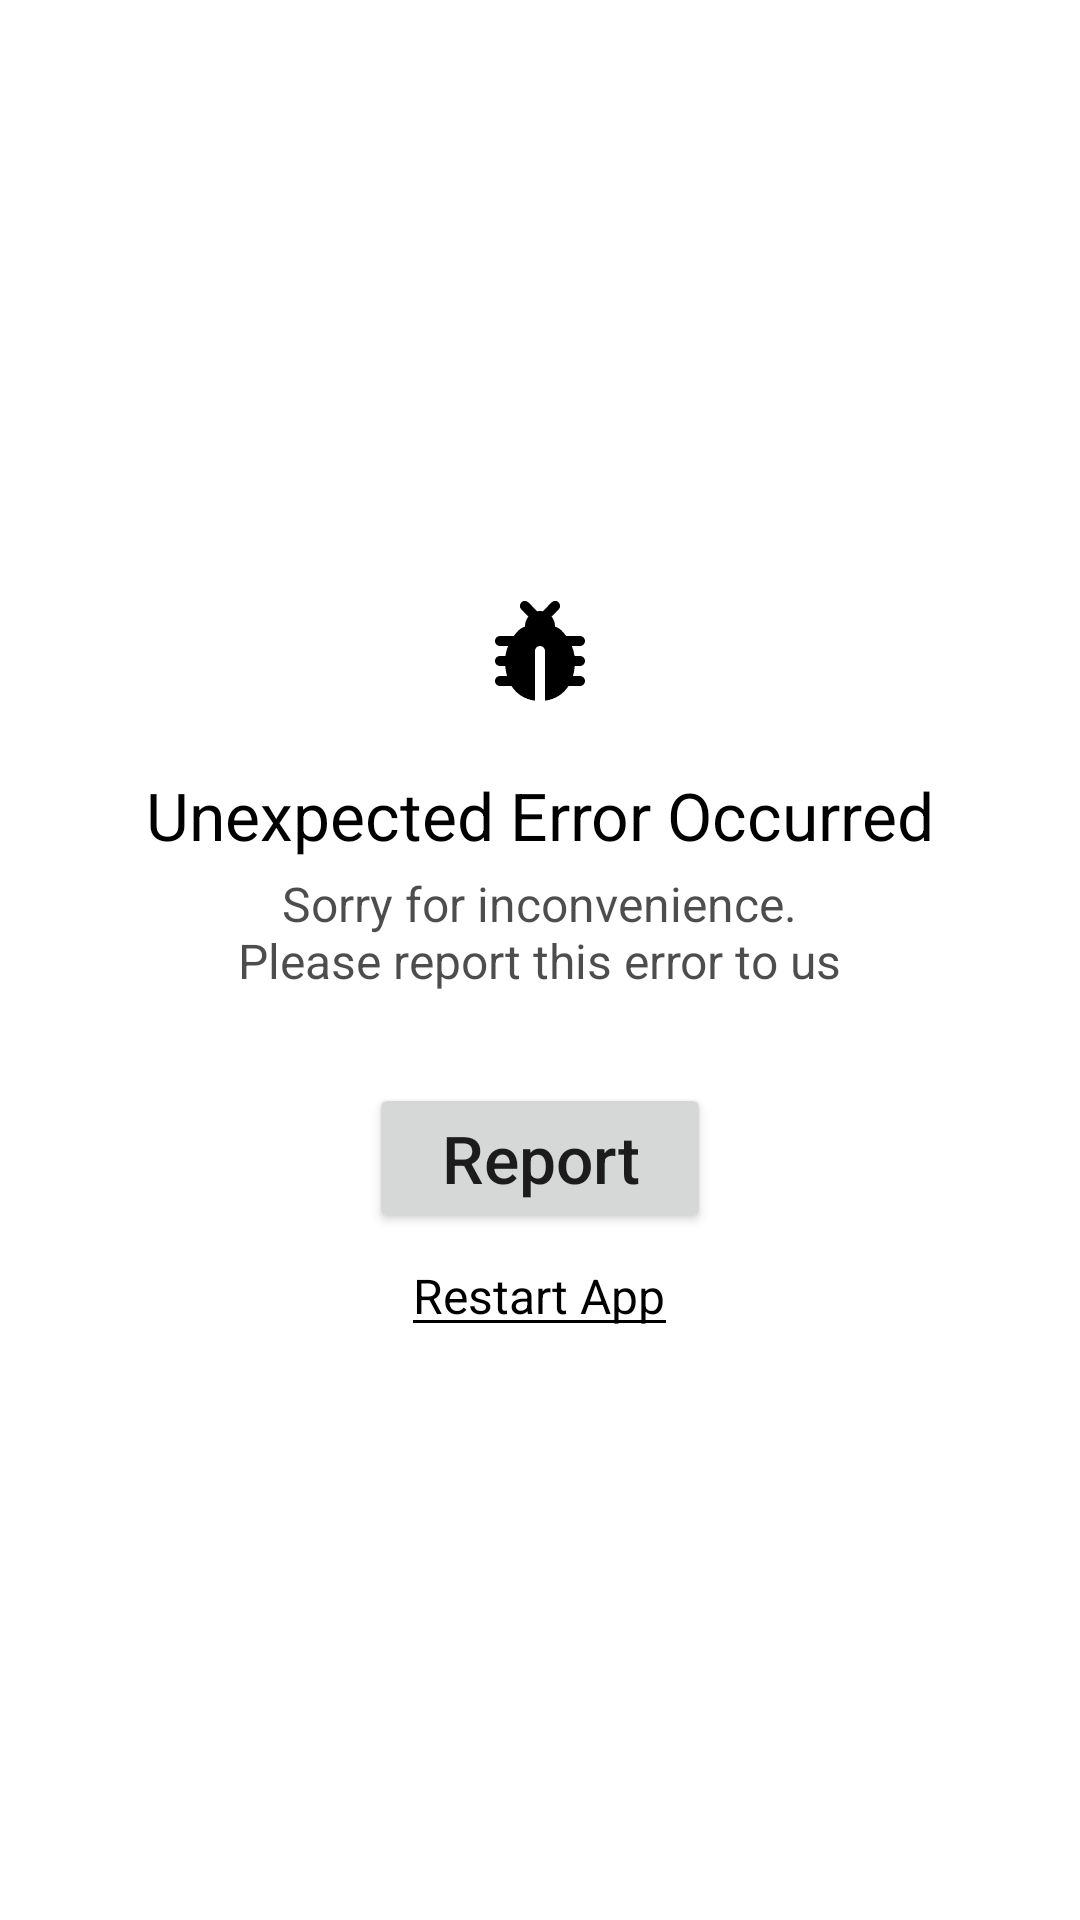

Named icons in this screenshot (1080 x 1920) and their bounding boxes, (left=x1, top=y1, right=x2, bottom=y2):
bug: (left=495, top=601, right=585, bottom=701)
